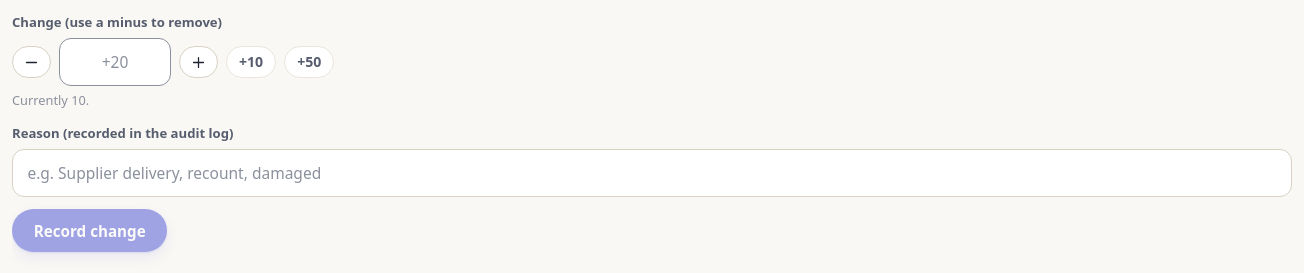
Test: AdjustStockForm › rejects non-integers
Type "x" into the field labelled "Reason (recorded in the audit log)".
click(652, 173); type("x")  # box left=12, top=149, right=1292, bottom=197
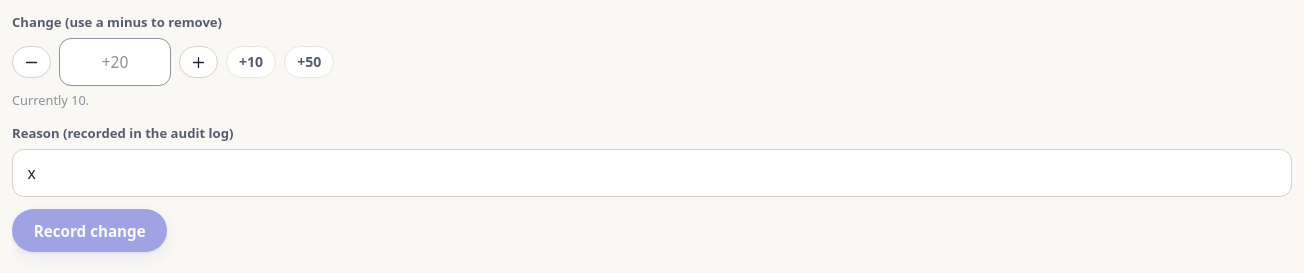
Type "2.5" into the field labelled "Change (use a minus to remove)".
click(115, 62); type("2.5")  # box left=59, top=38, right=171, bottom=86
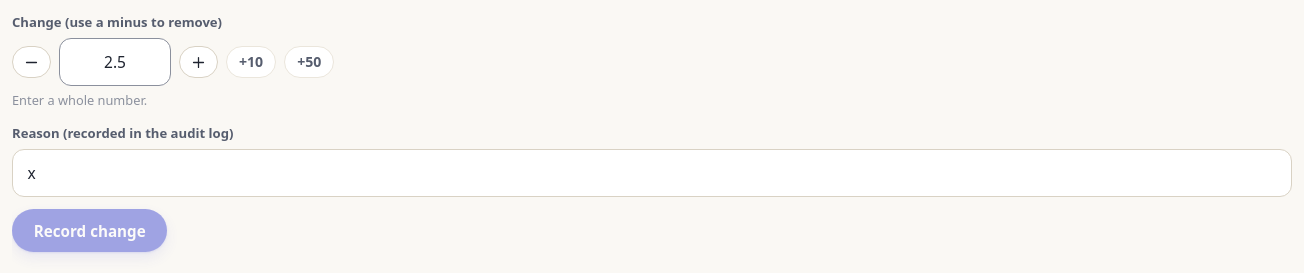
Expected: the button "Record change" is disabled, left=12, top=209, right=168, bottom=252
Now the text "Enter a whole number." is shown, box left=12, top=91, right=147, bottom=109
